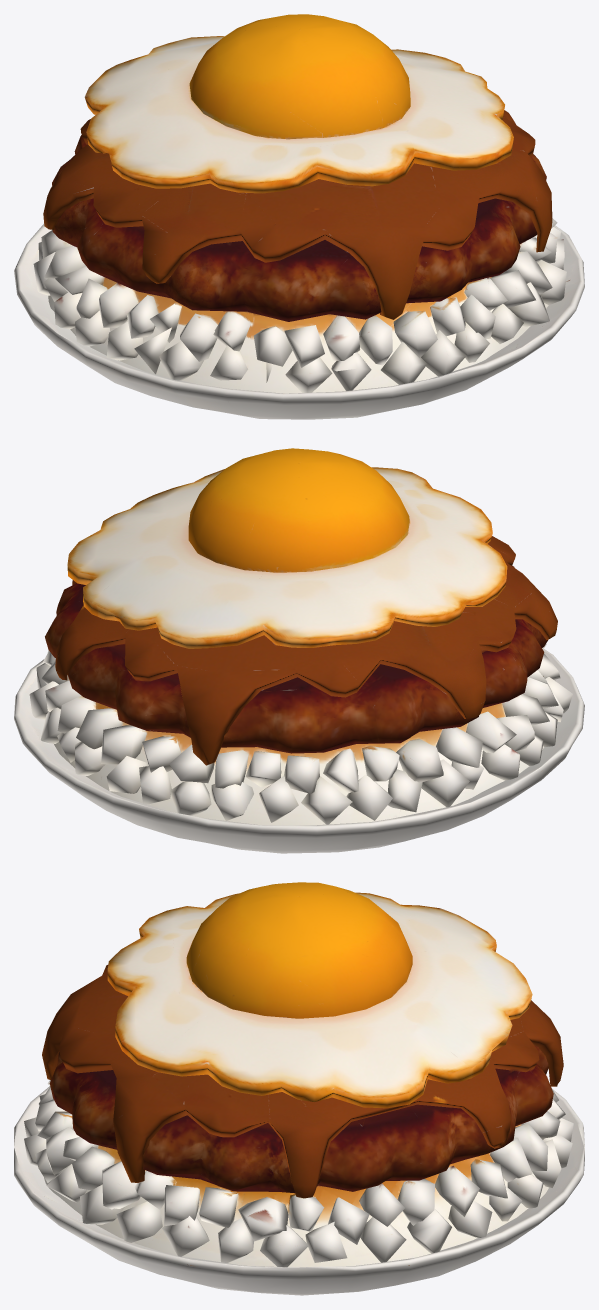
File: locomoco.glb
The picture shows the model from 3 angles, top to bottom: view 1: azimuth 30°, elevation 25°; view 2: azimuth 150°, elevation 25°; view 3: azimuth 270°, elevation 25°; orthographic projection. The views are drawn at different scales.
Bounding box in the file's own units: 1 × 0.6387 × 1.
Materials: 1 (1 with a texture image).
